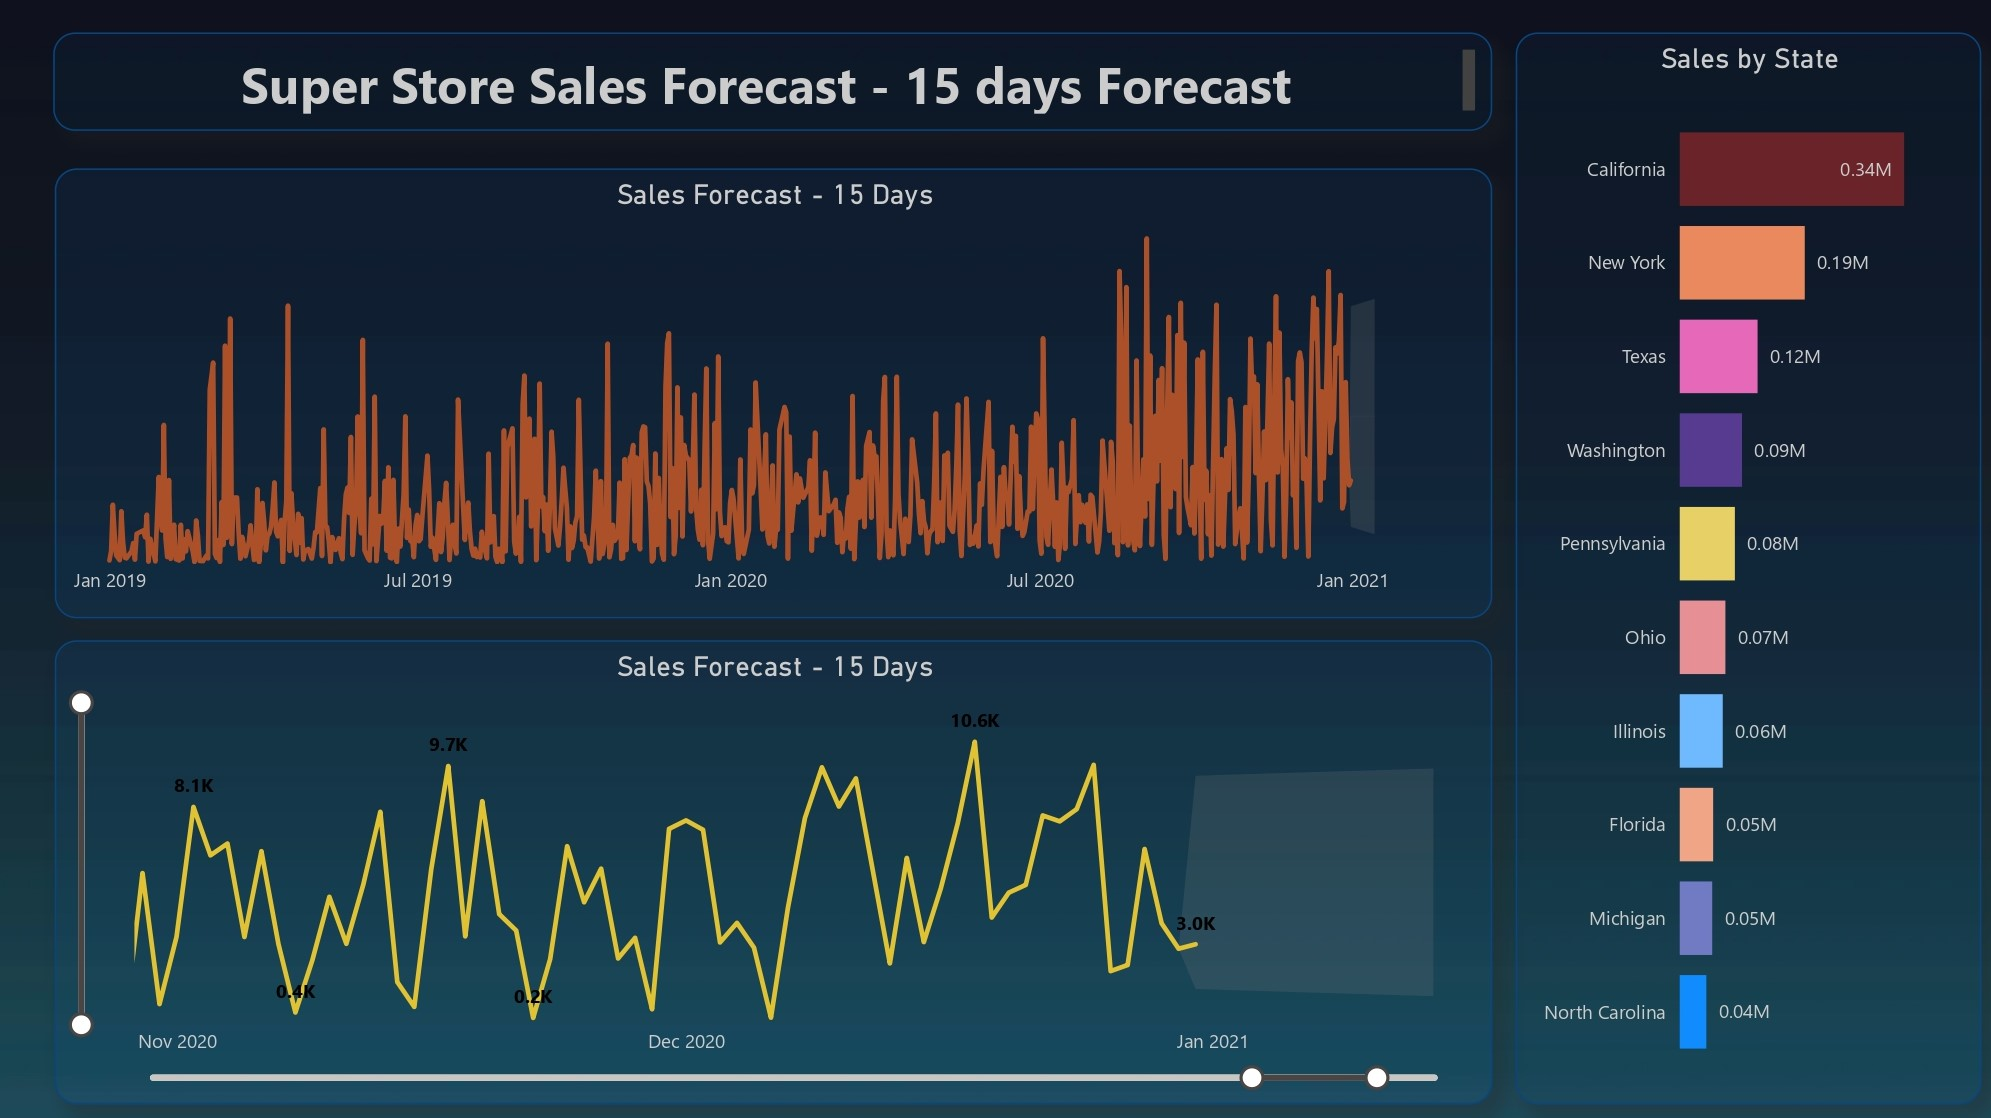

The page's visual inventory and layout, read from the dashboard file:
{"tool":"powerbi","page":{"name":"Page 2","canvas":[1280,720],"ordinal":1},"visuals":[{"type":"lineChart","title":"Sales Forecast - 15 Days","fields":{"Y":["Sum(Sheet1.Sales)"],"Category":["Sheet1.Order Date"]},"box":[36.3,110.2,920,288.1],"z":0},{"type":"lineChart","title":"Sales Forecast - 15 Days","fields":{"Y":["Sum(Sheet1.Sales)"],"Category":["Sheet1.Order Date"]},"box":[36.3,411.6,920,297.8],"z":1000},{"type":"textbox","box":[35.1,23,921.2,62.9],"z":2000},{"type":"clusteredBarChart","title":"Sales by State","fields":{"Y":["Sum(Sheet1.Sales)"],"Category":["Sheet1.State"]},"box":[970.8,23,297.8,686.4],"z":3000}]}

Visuals, with their boxes in screenshot pixels (x1, y1, x2, y2), scaled from the page's 1280x720 canvas onto the 1991x1118 screenshot:
"Sales Forecast - 15 Days" lineChart: <bbox>56, 171, 1487, 618</bbox>
"Sales Forecast - 15 Days" lineChart: <bbox>56, 639, 1487, 1102</bbox>
textbox: <bbox>55, 36, 1487, 133</bbox>
"Sales by State" clusteredBarChart: <bbox>1510, 36, 1973, 1102</bbox>
